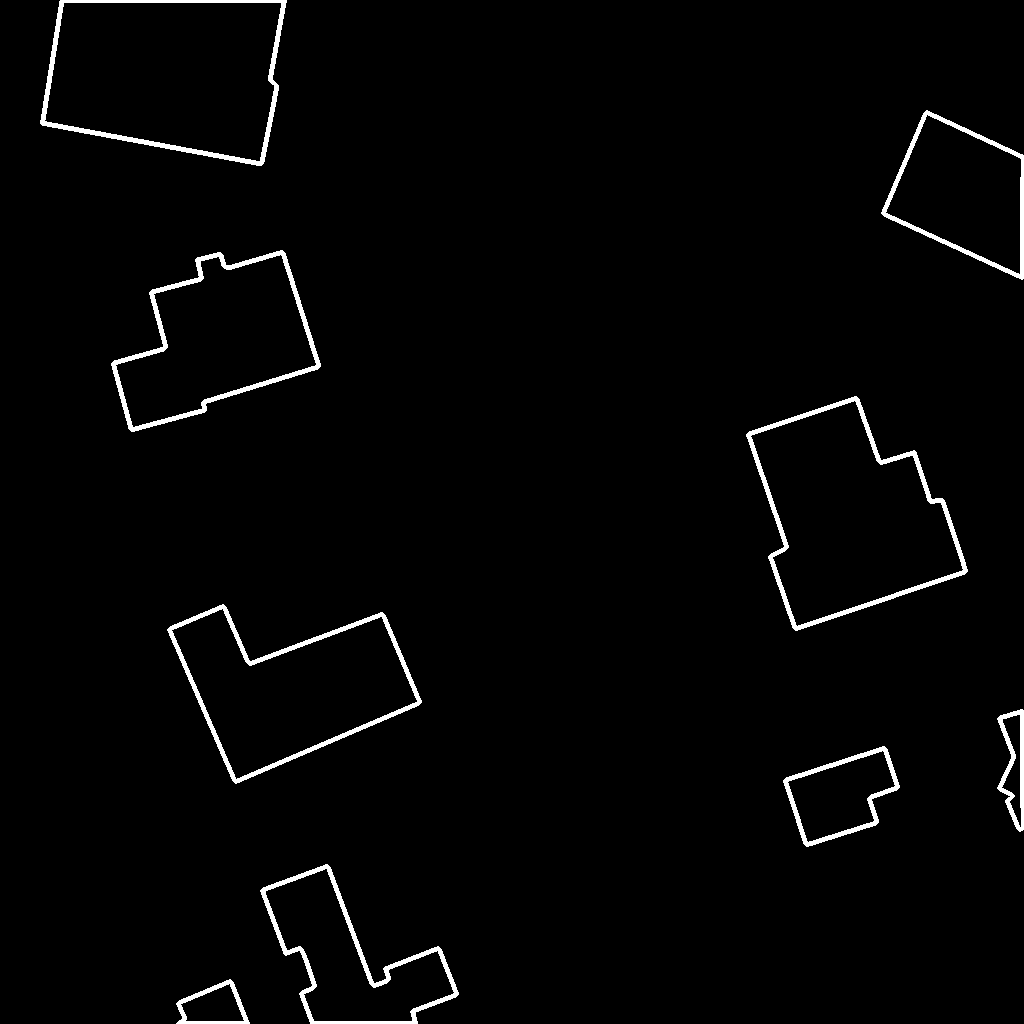building: (748, 398, 967, 630), (169, 606, 421, 783), (42, 0, 286, 165), (113, 252, 320, 431), (262, 866, 458, 1024), (883, 112, 1024, 279), (785, 748, 899, 846), (178, 981, 249, 1024), (999, 711, 1024, 831)
